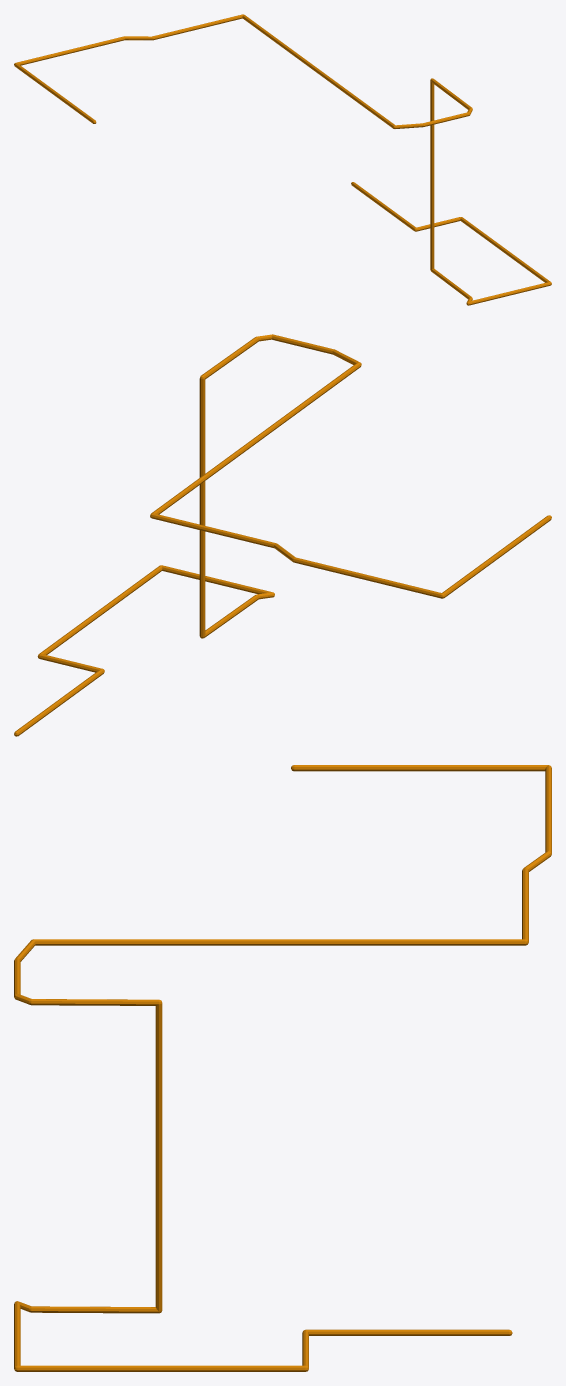
The picture shows the model from 3 angles, top to bottom: view 1: azimuth 30°, elevation 25°; view 2: azimuth 150°, elevation 25°; view 3: azimuth 270°, elevation 25°; orthographic projection. The views are drawn at different scales.
Bounding box in the file's own units: 2065 × 1020 × 1586.
